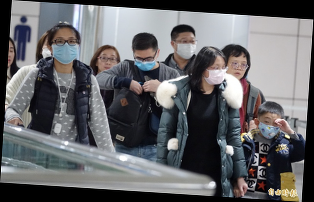with_mask: (50, 34, 80, 65), (175, 34, 198, 60), (256, 115, 280, 139), (205, 63, 227, 85), (133, 53, 157, 72)
without_mask: (97, 52, 119, 72), (228, 58, 248, 80)
